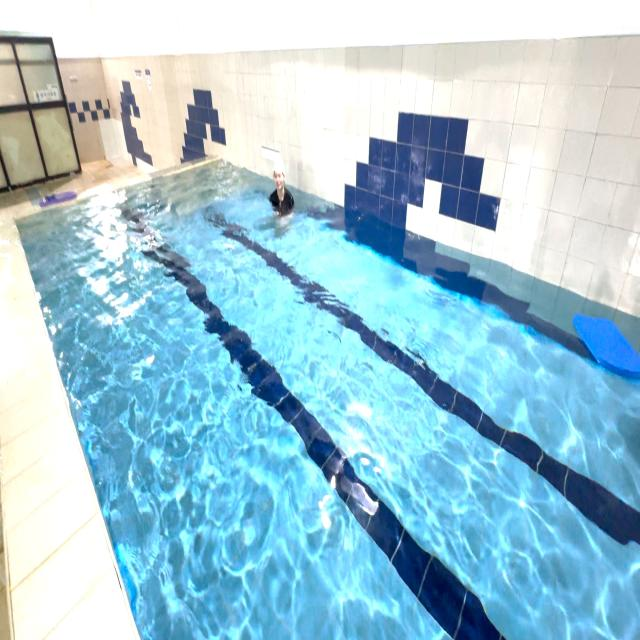Swimming: (255, 150, 307, 254)
